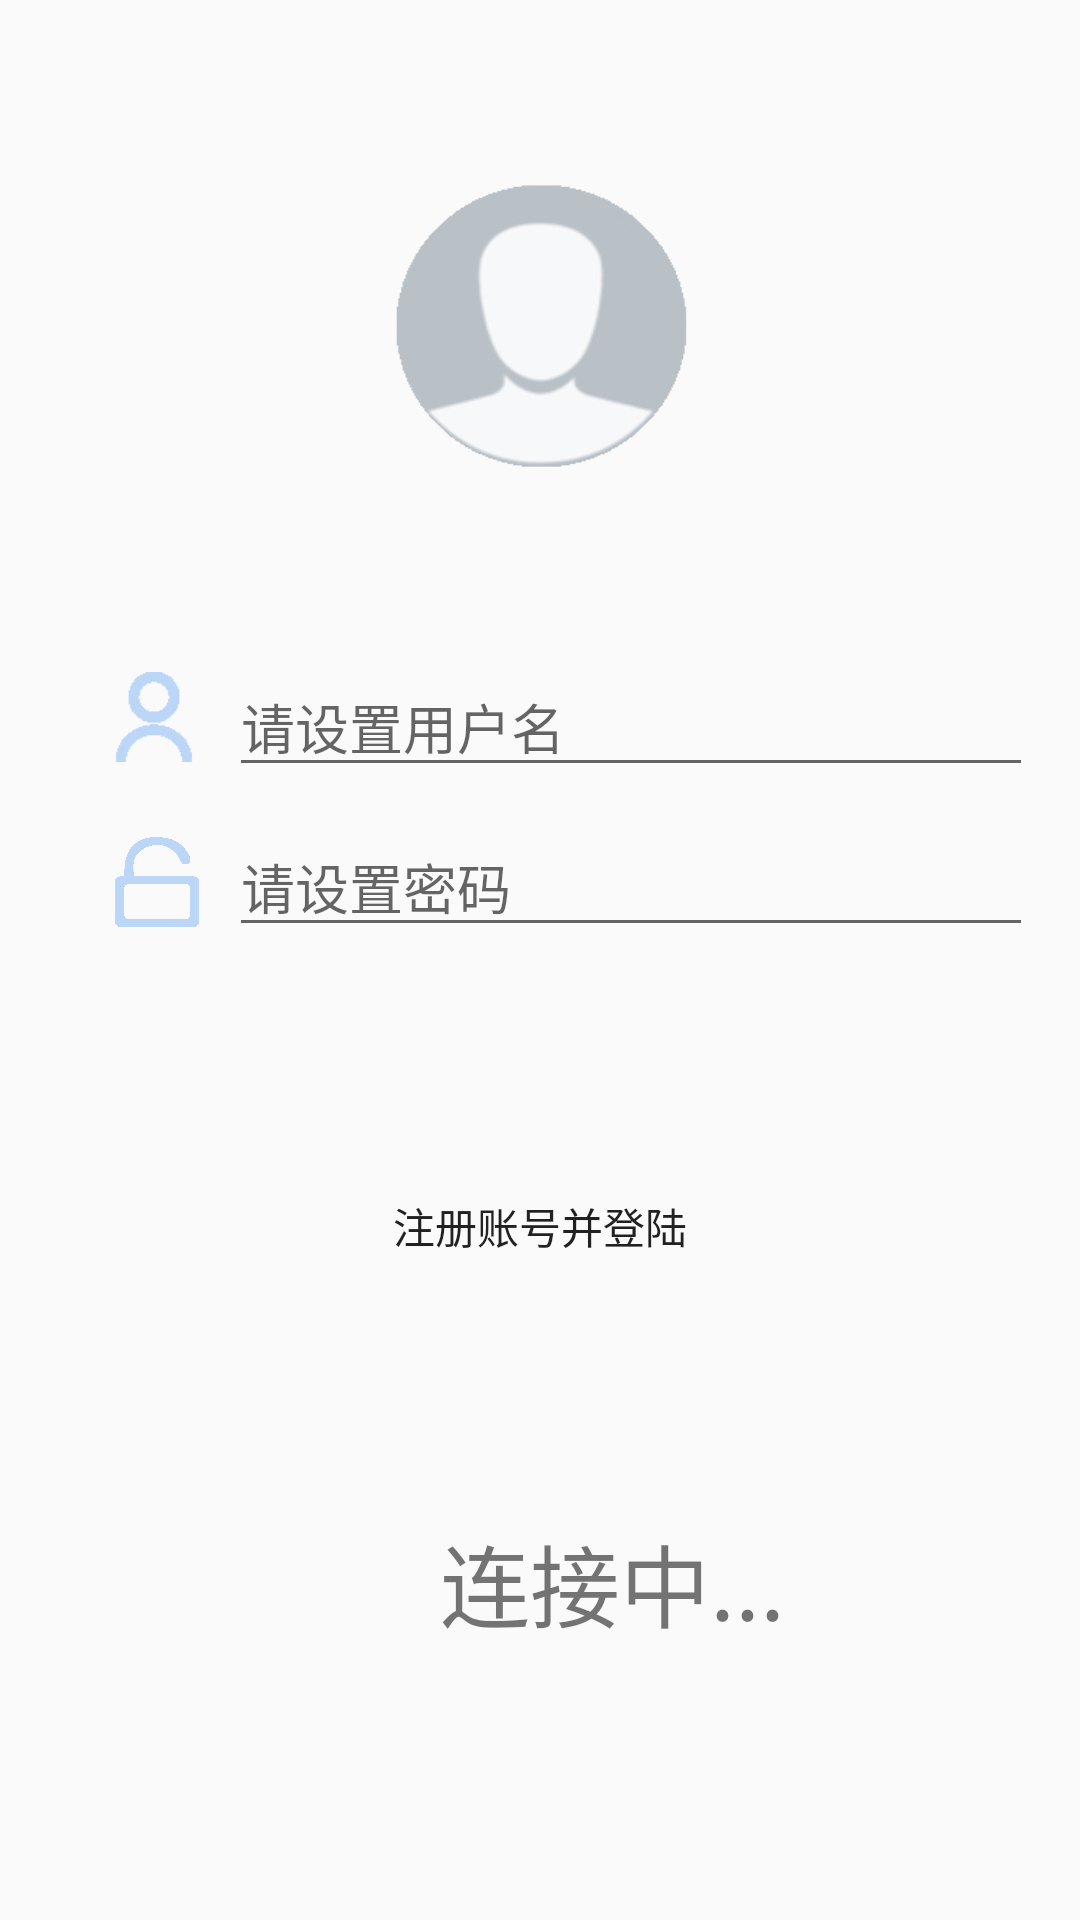

Locate icon controls on the screen. Image size 1080px x 1920px, boxes as bbox(x1, y1, x2, y2).
login picture: bbox(397, 185, 686, 467)
user id: bbox(116, 672, 192, 762)
user pw: bbox(115, 837, 199, 927)
